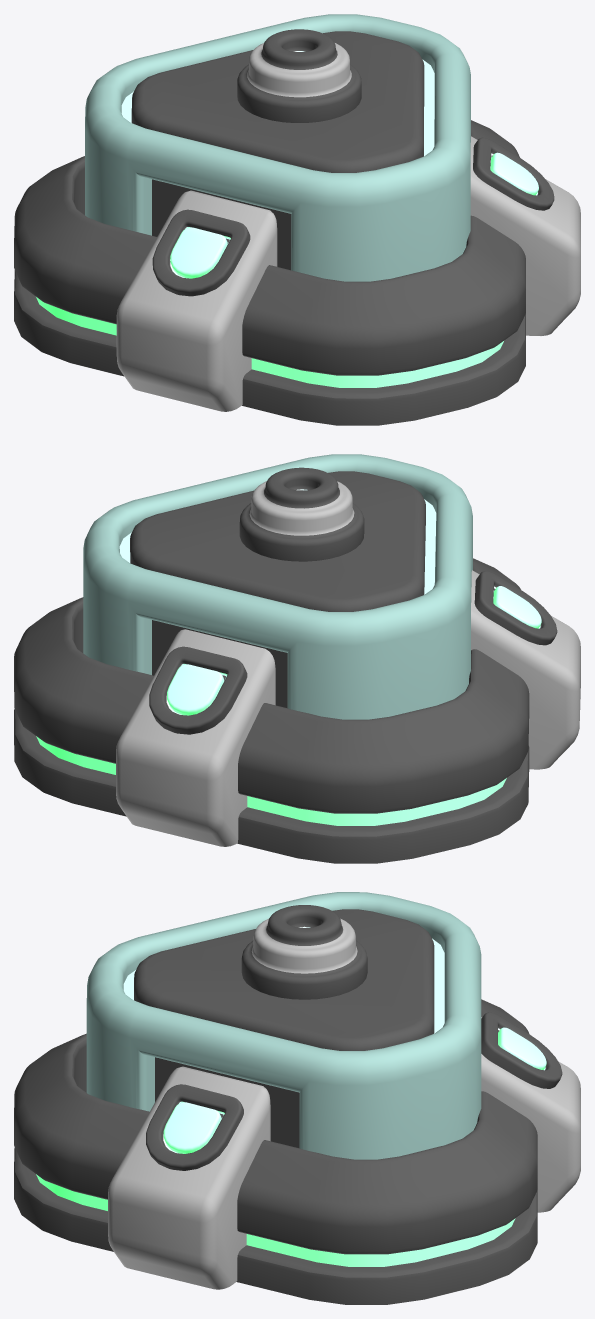
The model's file is Projecteur.fbx.
3 renders of one model, top to bottom at view 1: azimuth 30°, elevation 25°; view 2: azimuth 150°, elevation 25°; view 3: azimuth 270°, elevation 25°, orthographic.
Visible parts, largest first — view 1: Cube.003; view 2: Cube.003; view 3: Cube.003.
Boxes of the visible parts, bbox=[...] form: Cube.003: bbox=[14, 14, 580, 425]; Cube.003: bbox=[14, 454, 580, 863]; Cube.003: bbox=[14, 892, 580, 1304].
Size of the model in its own units: 146 by 77.71 by 149.
